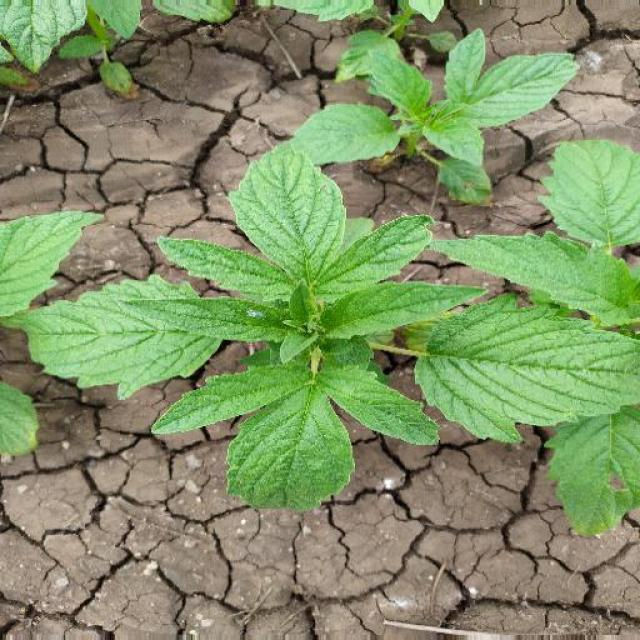crop: (20, 131, 498, 551), (430, 136, 640, 556), (265, 5, 587, 205)
